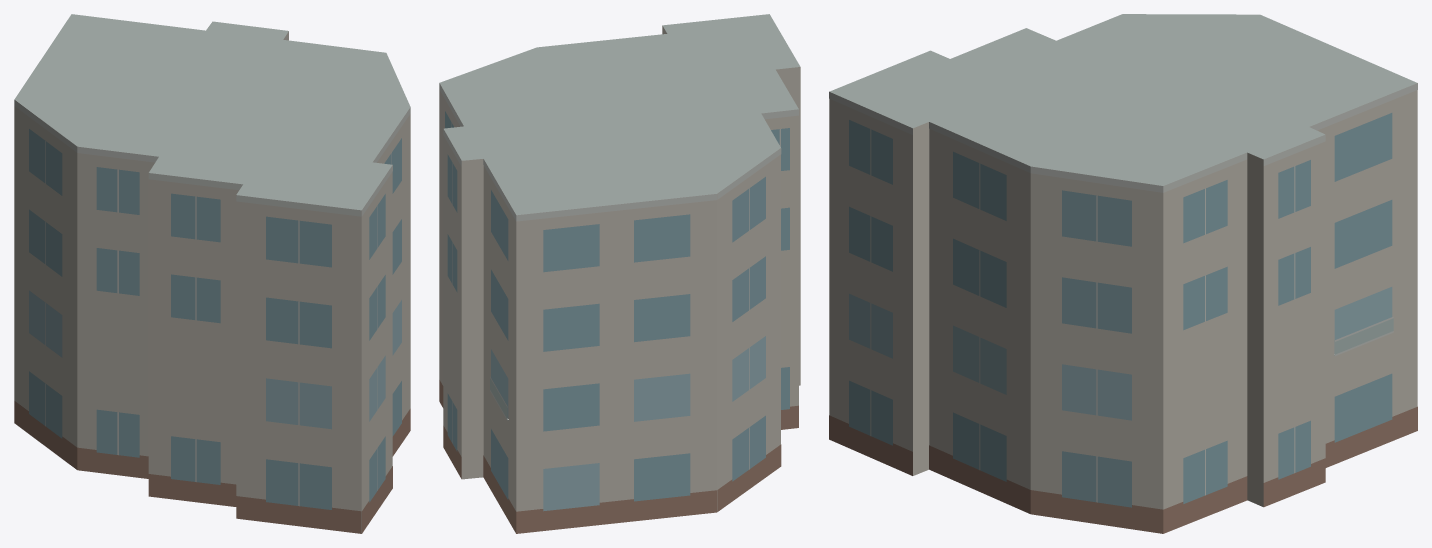
The model's file is survey-upis-32598206.glb.
3 views of the same model, side by side, from view 1: azimuth 30°, elevation 25°; view 2: azimuth 150°, elevation 25°; view 3: azimuth 270°, elevation 25° (orthographic). The views are drawn at different scales.
Parts seen in each view (by area): view 1: survey-upis-32598206.tmp; view 2: survey-upis-32598206.tmp; view 3: survey-upis-32598206.tmp.
Part boxes in pixels (x1,y1,x2,y2): survey-upis-32598206.tmp: [14, 14, 410, 533]; survey-upis-32598206.tmp: [439, 14, 800, 533]; survey-upis-32598206.tmp: [829, 14, 1417, 533].
Size of the model in its own units: 13.17 by 12.4 by 19.02.
